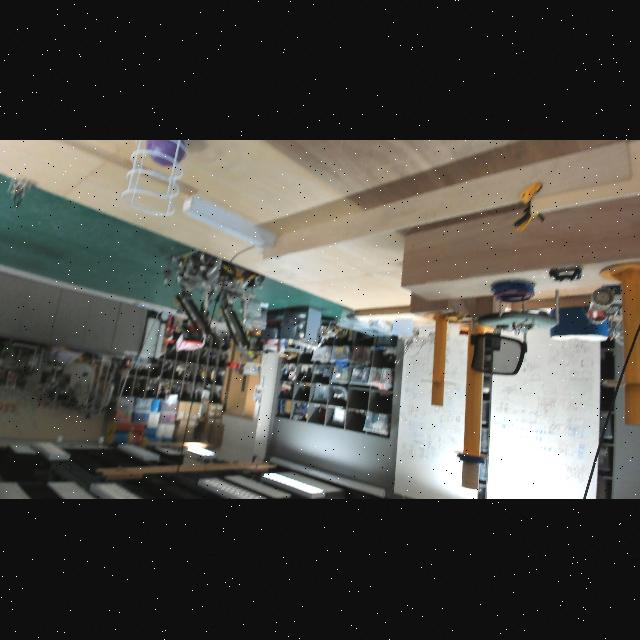P: (145, 140, 187, 168)
S: (120, 141, 192, 219)
